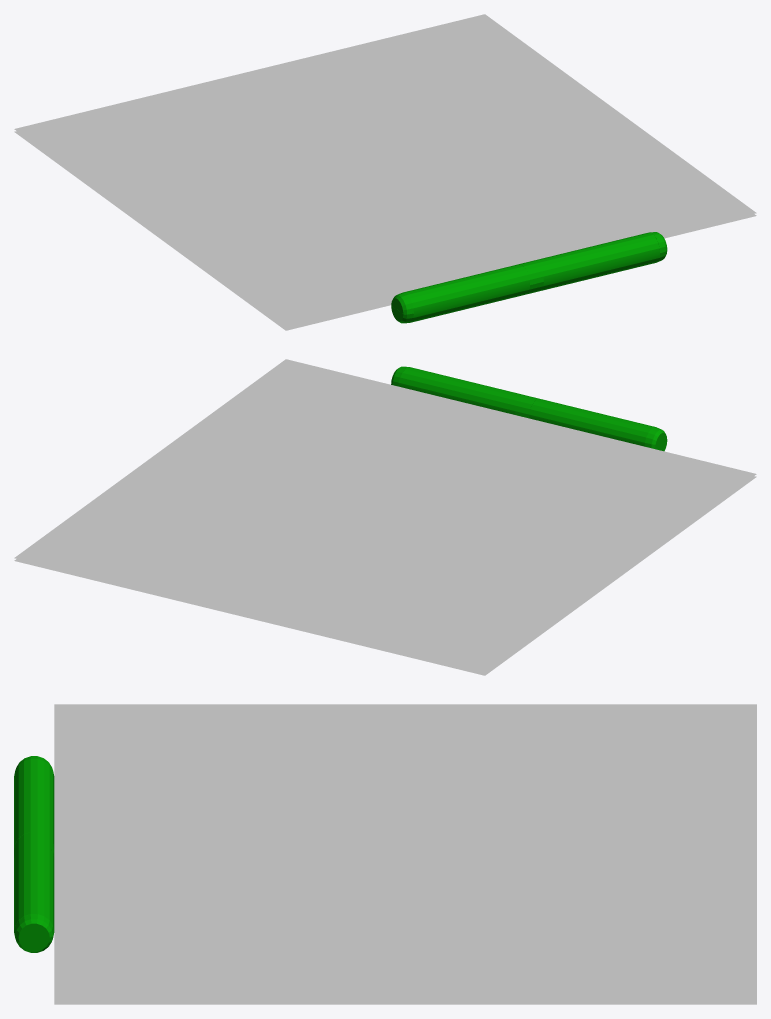
The picture shows the model from 3 angles, top to bottom: view 1: azimuth 30°, elevation 25°; view 2: azimuth 150°, elevation 25°; view 3: azimuth 270°, elevation 25°; orthographic projection. The views are drawn at different scales.
Visible parts, largest first — view 1: 0FRONT_Plane.005, base_Cylinder.007, 0BACK_Plane.000_0FRONT_Plane.006, colors_Cylinder.009; view 2: 0FRONT_Plane.005, base_Cylinder.007, 0BACK_Plane.000_0FRONT_Plane.006, colors_Cylinder.009; view 3: 0FRONT_Plane.005, base_Cylinder.007, 0BACK_Plane.000_0FRONT_Plane.006, colors_Cylinder.009.
Boxes of the visible parts, x1=… form: 0FRONT_Plane.005: x1=14, y1=14, x2=756, y2=327; base_Cylinder.007: x1=403, y1=232, x2=659, y2=322; 0BACK_Plane.000_0FRONT_Plane.006: x1=14, y1=131, x2=756, y2=330; colors_Cylinder.009: x1=391, y1=232, x2=667, y2=323; 0FRONT_Plane.005: x1=14, y1=359, x2=756, y2=672; base_Cylinder.007: x1=398, y1=367, x2=655, y2=446; 0BACK_Plane.000_0FRONT_Plane.006: x1=14, y1=476, x2=756, y2=675; colors_Cylinder.009: x1=391, y1=366, x2=667, y2=451; 0FRONT_Plane.005: x1=54, y1=704, x2=756, y2=1001; base_Cylinder.007: x1=14, y1=759, x2=54, y2=931; 0BACK_Plane.000_0FRONT_Plane.006: x1=54, y1=1001, x2=756, y2=1004; colors_Cylinder.009: x1=14, y1=756, x2=54, y2=952.
Size of the model in its own units: 3.58 by 0.2021 by 3.78.
